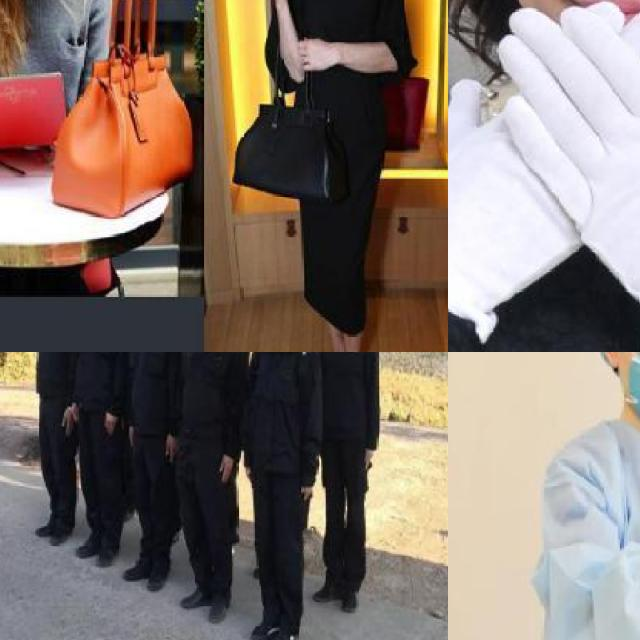hand_glove: (448, 1, 640, 295), (498, 6, 640, 307)
hand_noglove: (297, 34, 337, 73), (216, 454, 234, 482), (164, 436, 178, 462), (102, 411, 116, 436), (61, 405, 73, 434), (364, 447, 375, 471), (300, 482, 314, 500), (125, 423, 136, 445), (244, 464, 252, 481), (70, 403, 78, 419)
person: (244, 0, 447, 352), (0, 0, 143, 296), (529, 352, 640, 640), (244, 352, 319, 640), (182, 352, 244, 620), (319, 352, 376, 622), (130, 352, 185, 594), (21, 352, 82, 541), (82, 352, 125, 571)
shoes: (46, 510, 80, 546), (206, 587, 232, 631), (94, 535, 125, 570), (72, 530, 110, 558), (178, 588, 216, 614), (268, 616, 308, 640), (145, 564, 173, 597), (248, 617, 284, 640)
